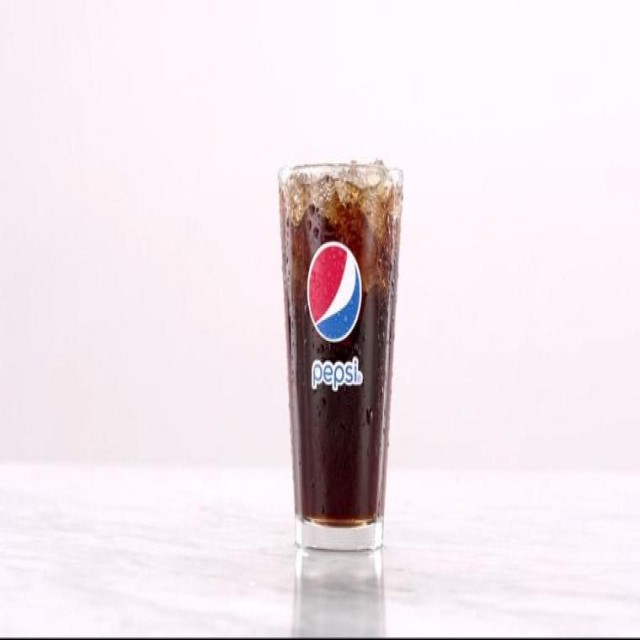pepsi: (306, 234, 364, 348)
